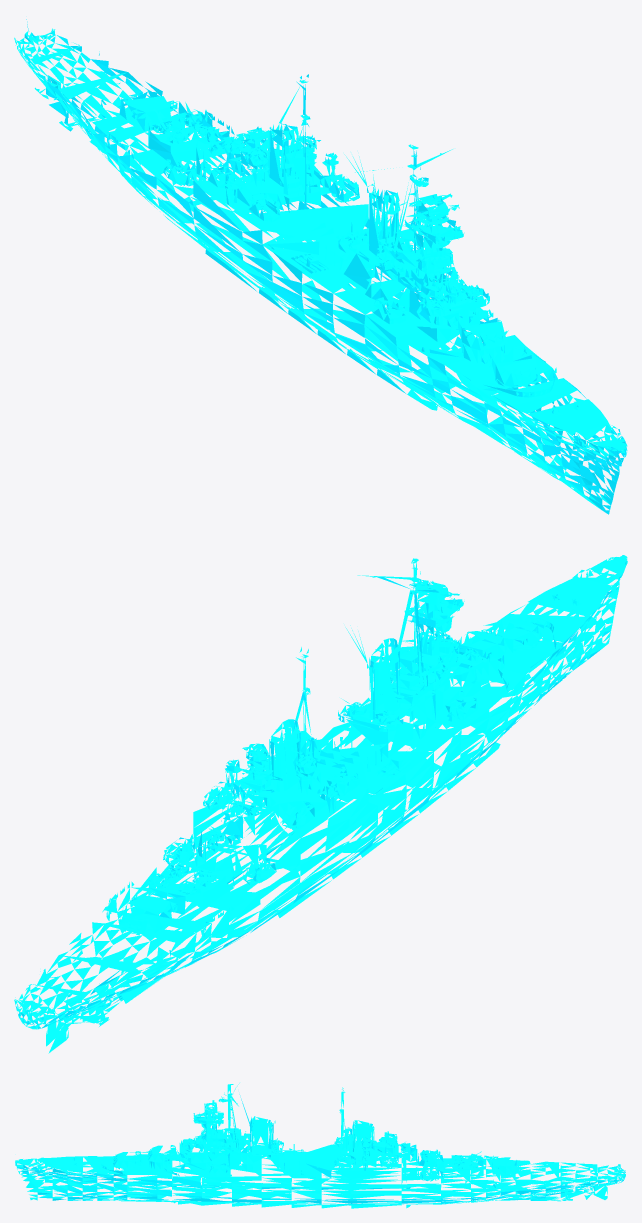
File: Petr_Bagration.glb
3 views of the same model, one above another, from view 1: azimuth 30°, elevation 25°; view 2: azimuth 150°, elevation 25°; view 3: azimuth 270°, elevation 25° (orthographic). The views are drawn at different scales.
Bounding box in the file's own units: 1.52 × 2.93 × 14.04.
